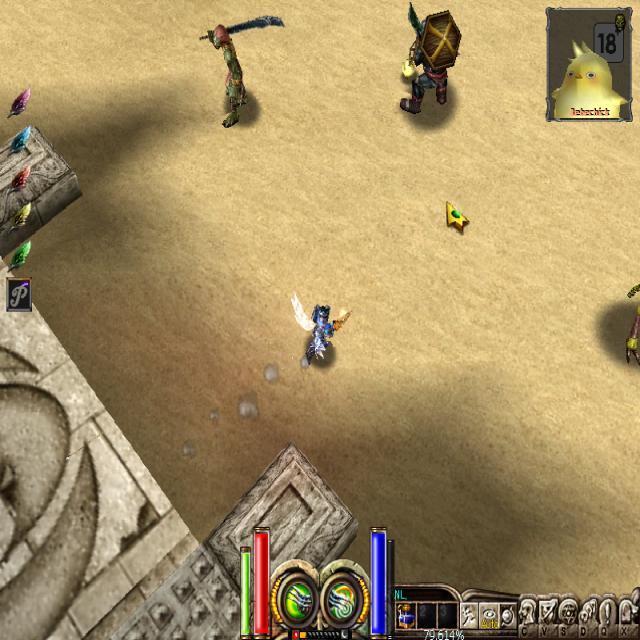monster: (192, 9, 264, 121), (398, 8, 460, 125), (398, 56, 416, 82)
